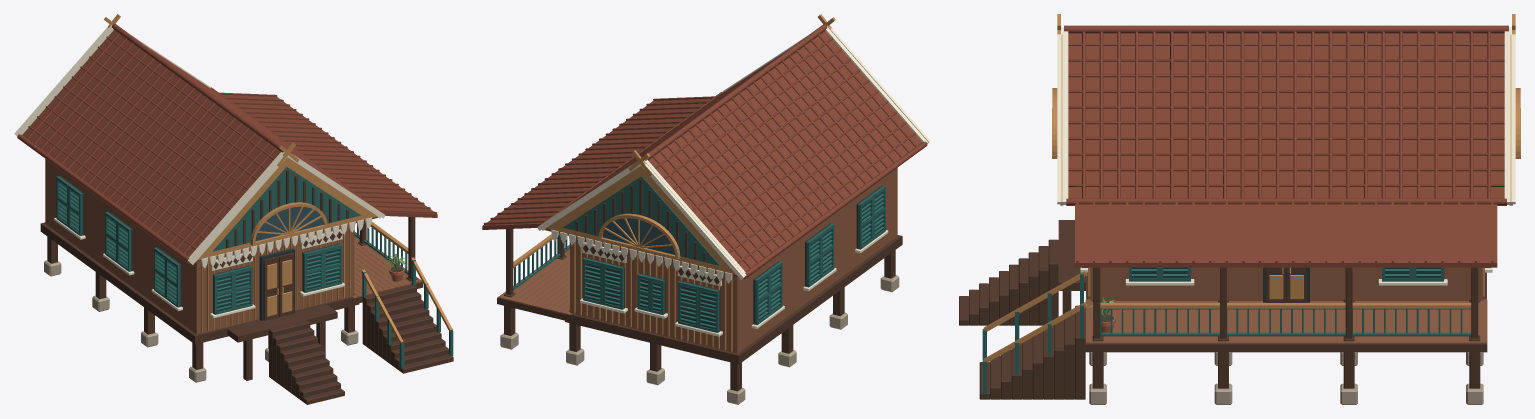
3 views of the same model, side by side, from view 1: azimuth 30°, elevation 25°; view 2: azimuth 150°, elevation 25°; view 3: azimuth 270°, elevation 25° (orthographic). The views are drawn at different scales.
Parts seen in each view (by area): view 1: Pitched roof, Post and beam frame, Open side serambi, Stair treads, Carved gable end, Louvred shutters, Entrance joinery, Radial fanlights, Raking bargeboards, Encaustic tile frieze, Guard rails; view 2: Pitched roof, Post and beam frame, Open side serambi, Louvred shutters, Carved gable end, Radial fanlights, Raking bargeboards, Guard rails, Encaustic tile frieze; view 3: Pitched roof, Open side serambi, Post and beam frame, Stair treads, Guard rails, Louvred shutters, Raking bargeboards, Carved gable end, Entrance joinery, Radial fanlights.
Part boxes in pixels (box(x1,y1,x2,y2)): Pitched roof: box(17, 24, 381, 263); Post and beam frame: box(40, 159, 416, 382); Open side serambi: box(219, 92, 453, 368); Stair treads: box(269, 284, 453, 404); Carved gable end: box(14, 14, 385, 268); Louvred shutters: box(54, 176, 344, 318); Entrance joinery: box(259, 248, 294, 320); Radial fanlights: box(250, 202, 327, 245); Raking bargeboards: box(17, 26, 380, 261); Encaustic tile frieze: box(211, 229, 342, 270); Guard rails: box(354, 224, 408, 274); Pitched roof: box(540, 24, 927, 278); Post and beam frame: box(500, 167, 902, 404); Open side serambi: box(482, 96, 714, 322); Louvred shutters: box(580, 185, 888, 336); Carved gable end: box(537, 14, 930, 283); Radial fanlights: box(598, 213, 680, 259); Raking bargeboards: box(542, 26, 927, 276); Guard rails: box(513, 234, 569, 289); Encaustic tile frieze: box(582, 242, 721, 286); Pitched roof: box(1064, 25, 1508, 205); Open side serambi: box(982, 202, 1497, 394); Post and beam frame: box(1062, 267, 1486, 404); Stair treads: box(959, 239, 1085, 399); Guard rails: box(1100, 308, 1471, 336); Louvred shutters: box(1080, 267, 1492, 285); Raking bargeboards: box(1062, 27, 1510, 204); Carved gable end: box(1057, 14, 1515, 205); Entrance joinery: box(1263, 267, 1309, 302); Radial fanlights: box(1052, 88, 1520, 158).
Bounding box in the file's own units: 9.18 × 7.88 × 13.54.
